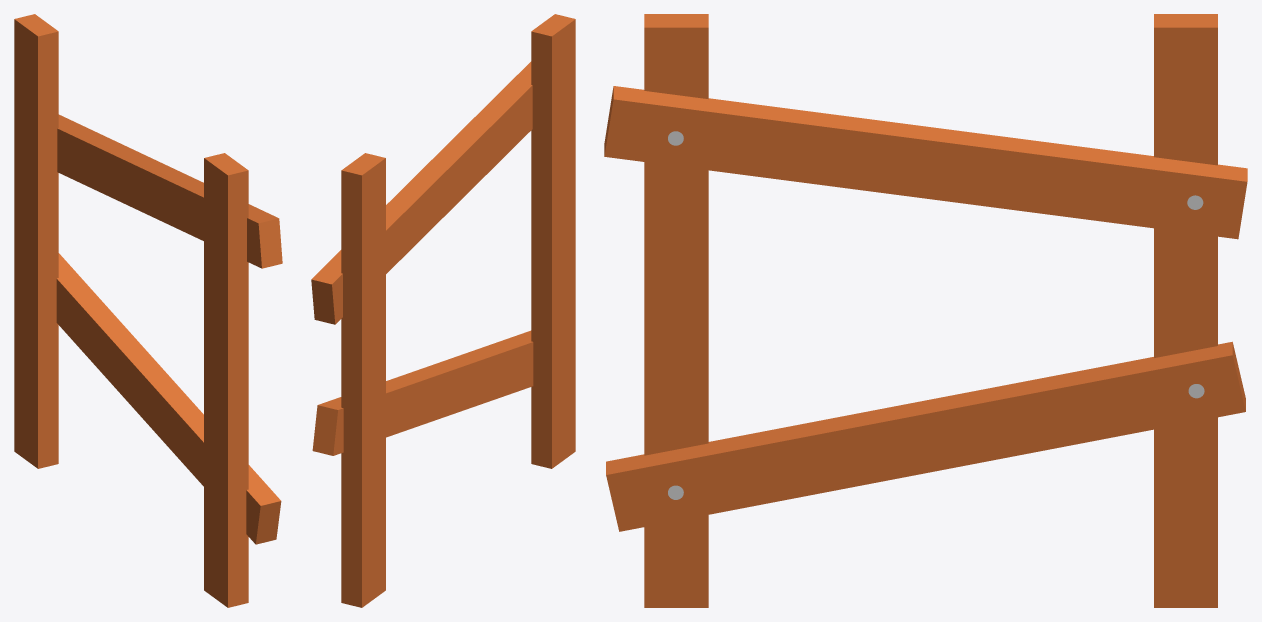
The model's file is fence_type1.glb.
3 views of the same model, side by side, from view 1: azimuth 30°, elevation 25°; view 2: azimuth 150°, elevation 25°; view 3: azimuth 270°, elevation 25° (orthographic). The views are drawn at different scales.
Visible parts, largest first — view 1: Cube.001, Cube.002, Cube.003, Cube; view 2: Cube.002, Cube.001, Cube, Cube.003; view 3: Cube, Cube.003, Cube.002, Cube.001.
Part boxes in pixels (x1,y1,x2,y2): Cube.001: (14,14,58,468); Cube.002: (204,153,248,607); Cube.003: (56,253,281,544); Cube: (57,114,282,268); Cube.002: (531,14,575,468); Cube.001: (341,153,385,607); Cube: (311,61,532,324); Cube.003: (312,330,533,455); Cube: (604,86,1247,239); Cube.003: (606,341,1245,531); Cube.002: (644,14,708,607); Cube.001: (1154,14,1217,607).
Size of the model in its own units: 0.3903 by 4 by 4.02.
